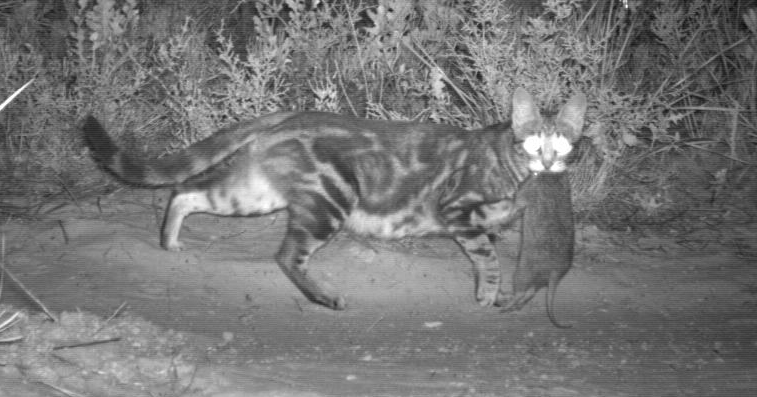bobcat: (77, 94, 581, 316)
javelina: (505, 177, 577, 316)
